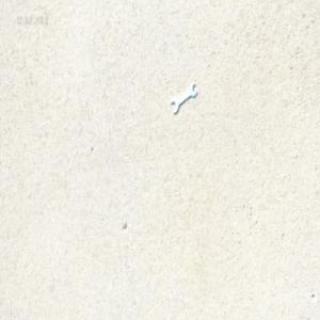Wrenchtrack_idkeyframe: (171, 84, 196, 114)
